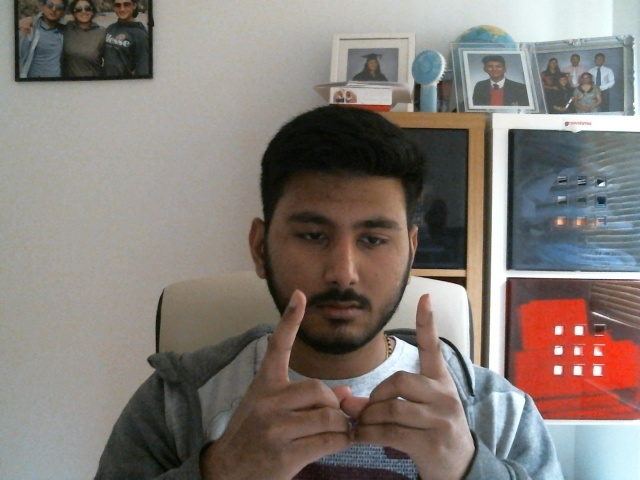meet: (230, 289, 463, 464)
